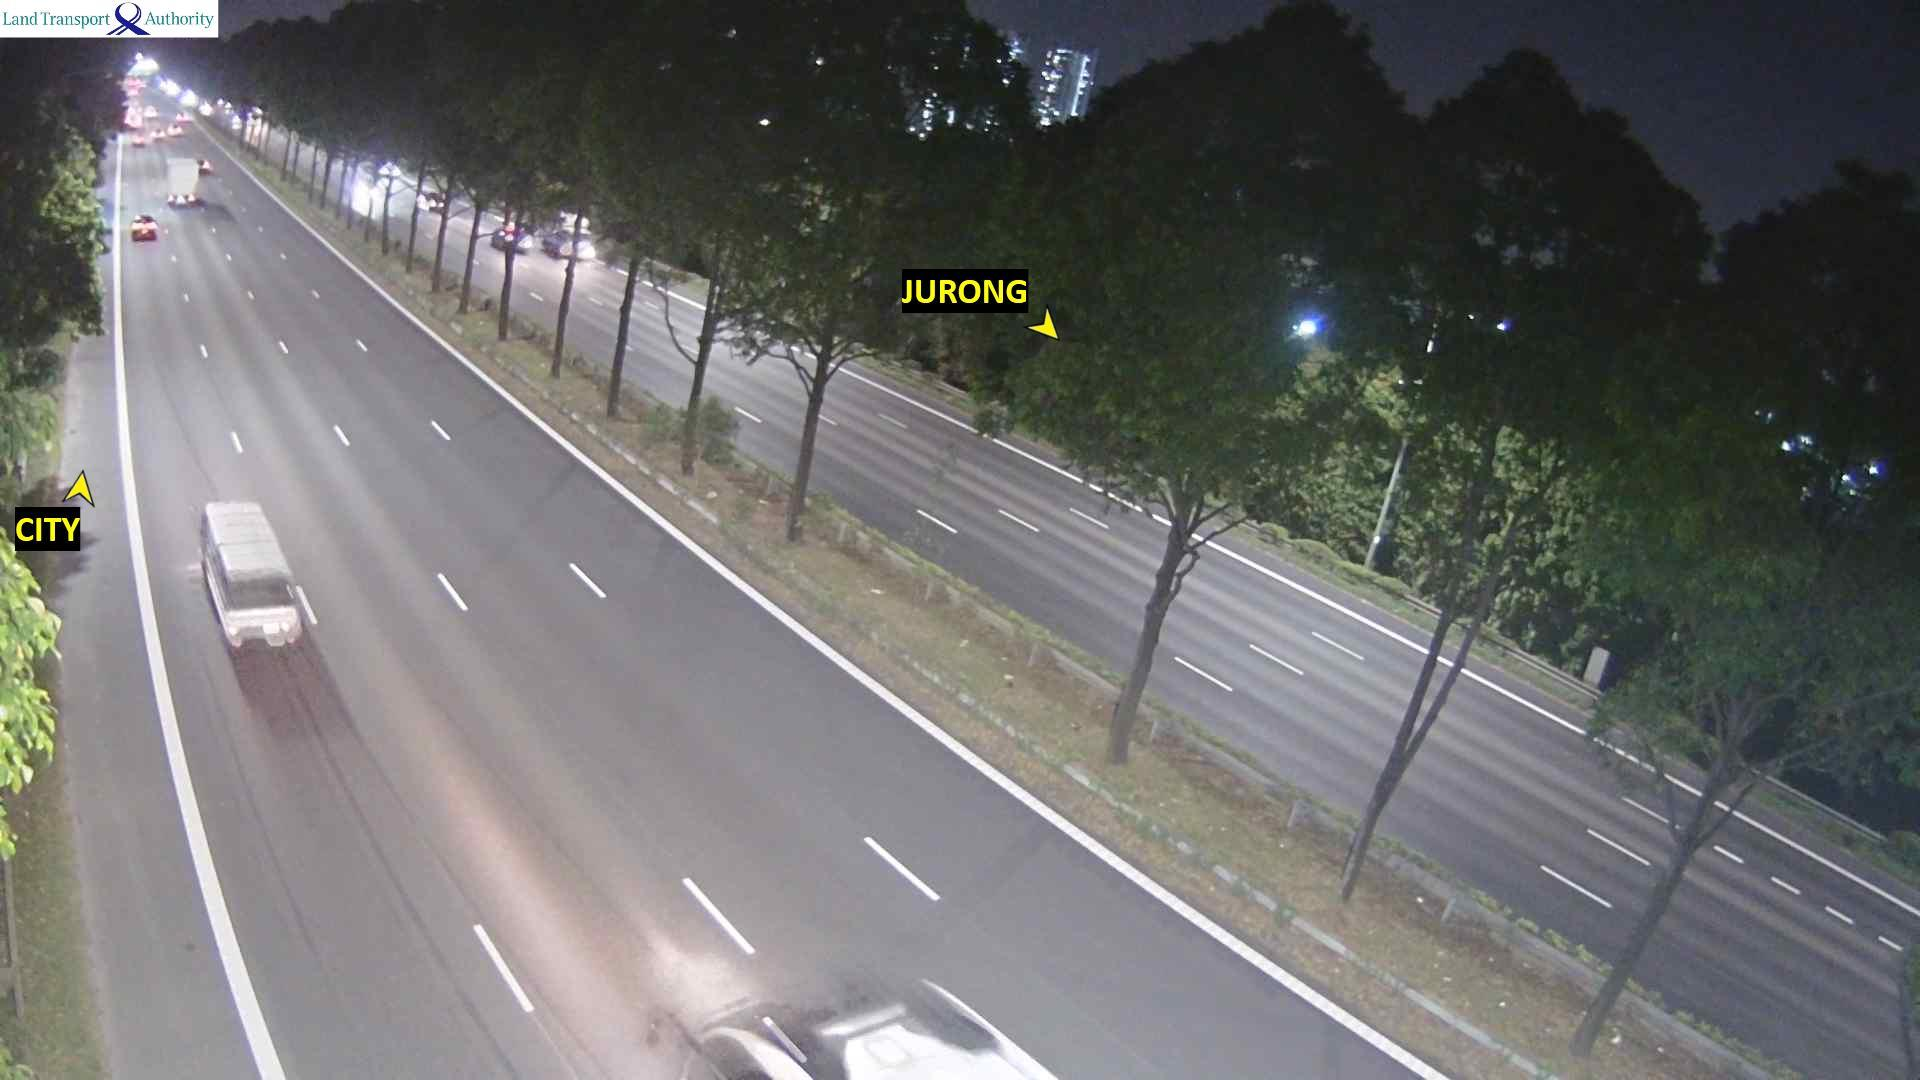cars: (681, 975, 1059, 1079), (198, 498, 317, 654), (540, 227, 595, 259), (489, 221, 532, 254), (129, 212, 158, 241), (418, 189, 445, 211), (130, 131, 149, 147), (166, 123, 184, 136)
trucks: (164, 156, 211, 209)
